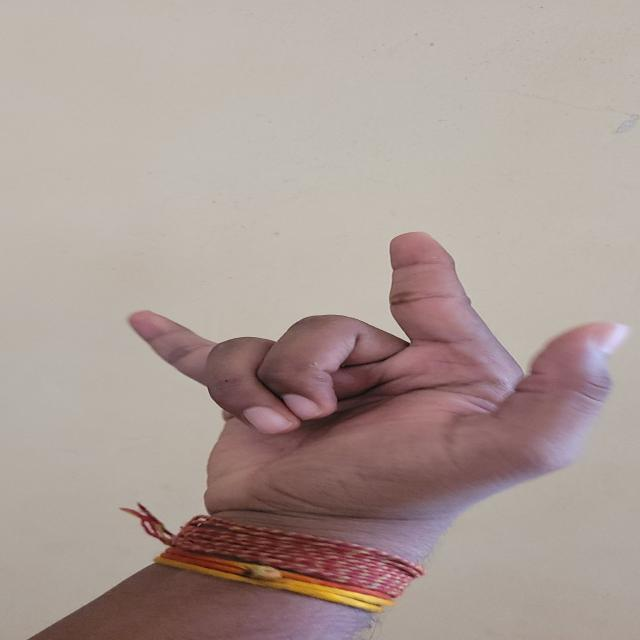i like you: (61, 212, 640, 539)
